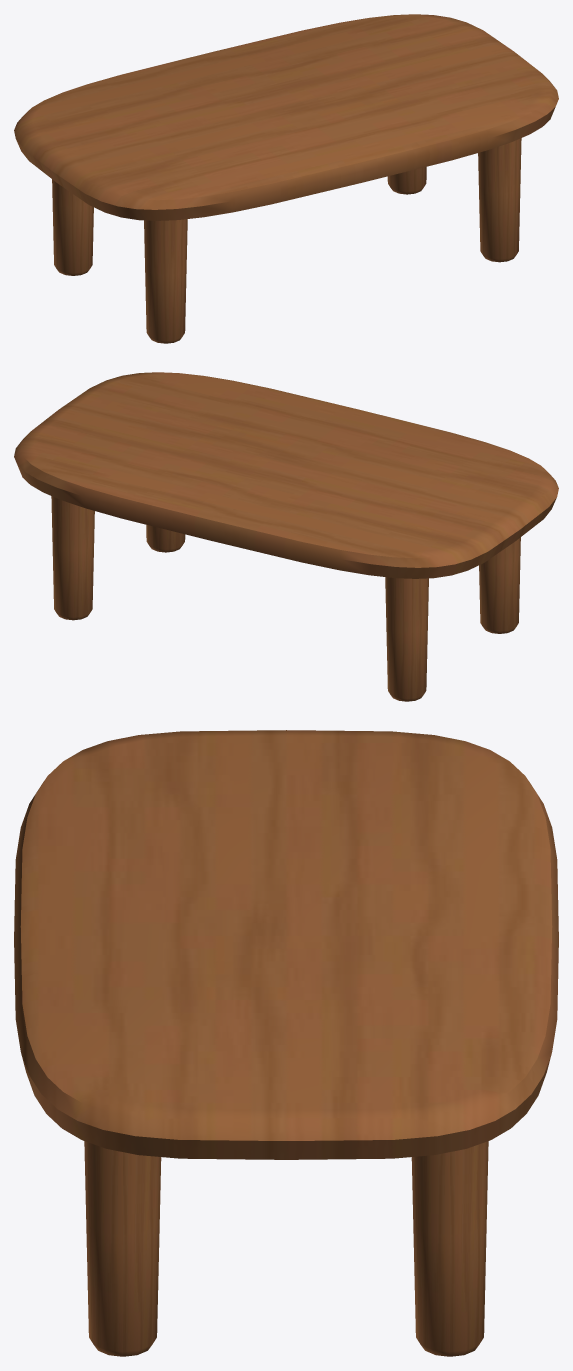
Rendered from SM_Igloo_Table.glb.
3 renders of one model, top to bottom at view 1: azimuth 30°, elevation 25°; view 2: azimuth 150°, elevation 25°; view 3: azimuth 270°, elevation 25°, orthographic. The views are drawn at different scales.
Parts seen in each view (by area): view 1: SM_Igloo_Table; view 2: SM_Igloo_Table; view 3: SM_Igloo_Table.
Boxes of the visible parts, bbox=[...] form: SM_Igloo_Table: bbox=[14, 14, 558, 343]; SM_Igloo_Table: bbox=[14, 372, 558, 701]; SM_Igloo_Table: bbox=[14, 730, 558, 1356].
Bounding box in the file's own units: 1.4 × 0.45 × 0.8.
Materials: 1 (1 with a texture image).
